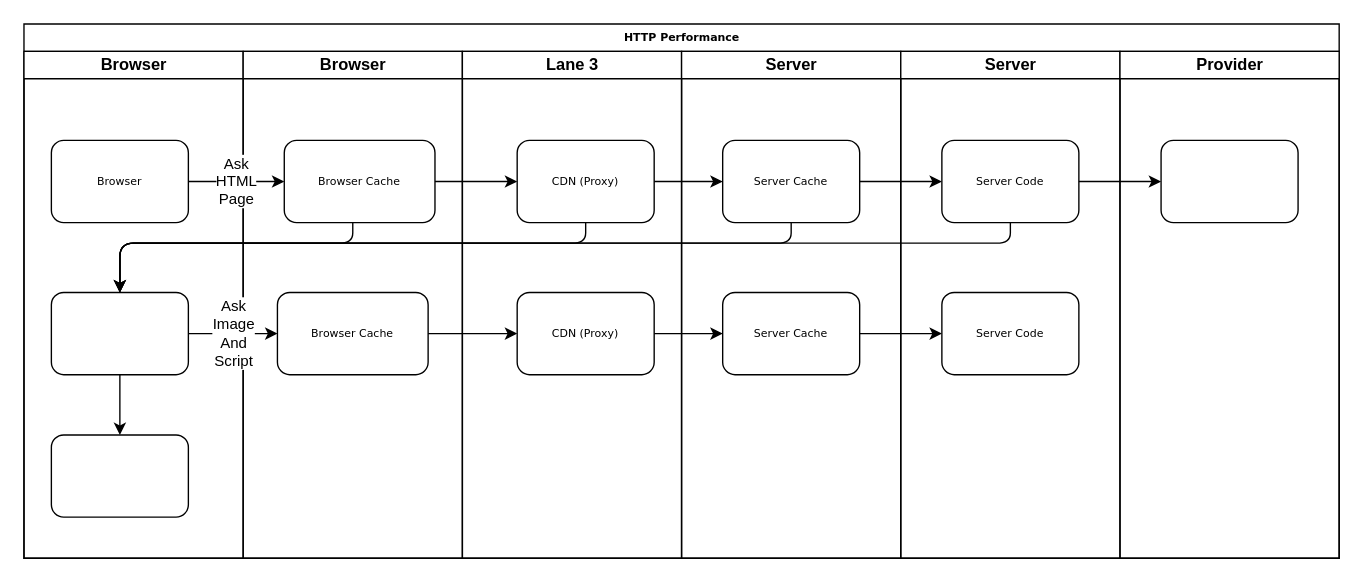
The diagram is 1363 pixels wide and 582 high, and some of its shapes have lost their labels. Here are the shapes that lost their labels. From the top down, the centre of each, then its label:
At (1229,181): "Database".
At (119,333): "HTML Page".
At (119,475): "Render And Render Continously".
